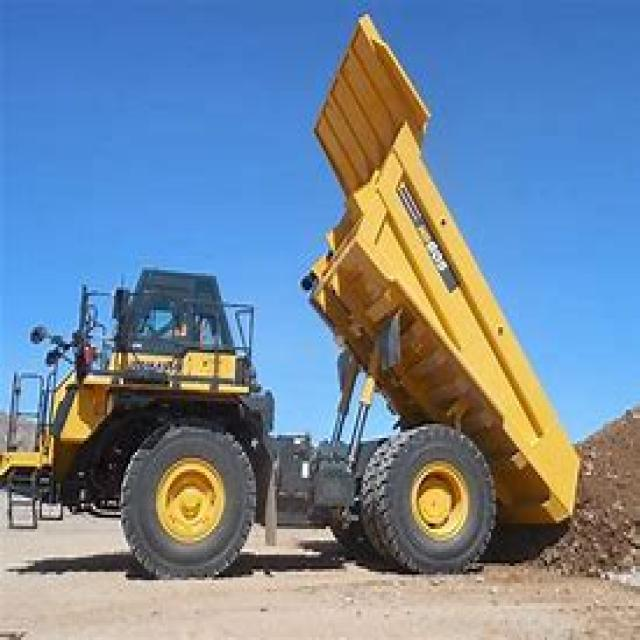dump_truck: (21, 12, 596, 580)
